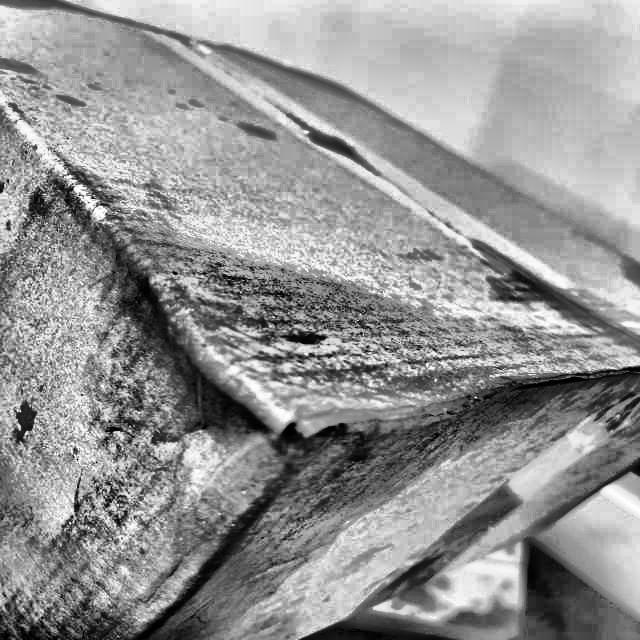box: (0, 0, 639, 639)
wet: (0, 239, 546, 636)
